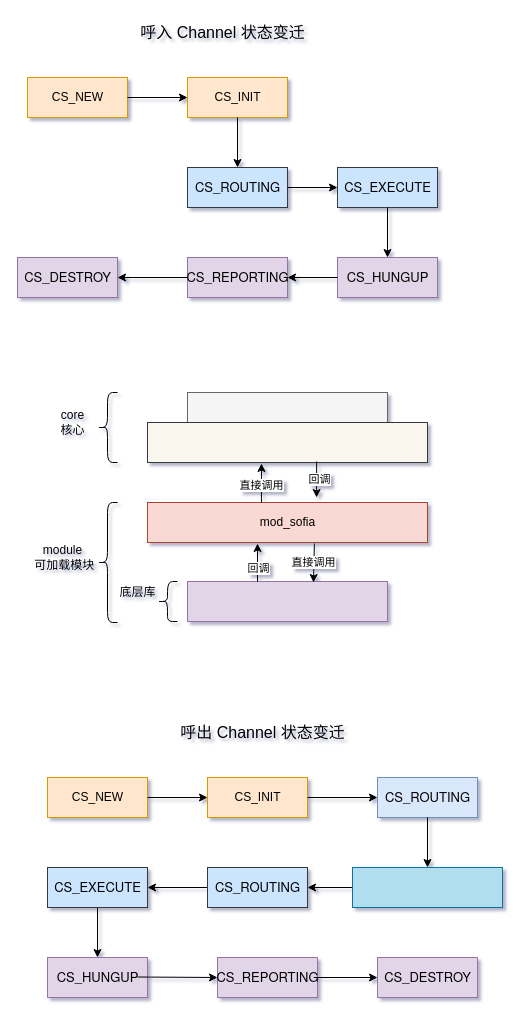
Some shapes in this 526 by 1021 pixel diagram are drawn without their labels. Here are the shapes that lost their labels. From the top down, the box of each, then its label:
(186, 392, 388, 422): channel
(146, 422, 428, 462): session
(186, 580, 388, 622): Sofia-SIP
(352, 866, 502, 908): CS_CONSUME_MEDIA
